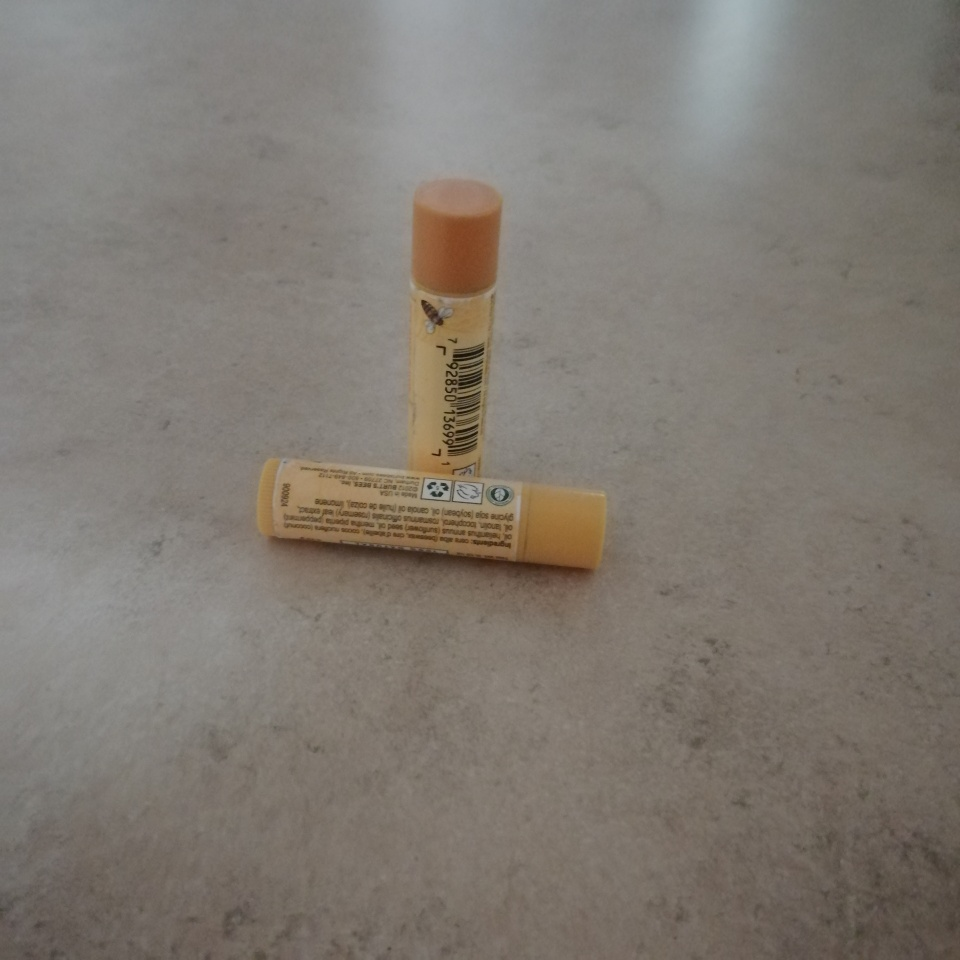chapstick: (256, 455, 609, 573), (408, 178, 503, 486)
